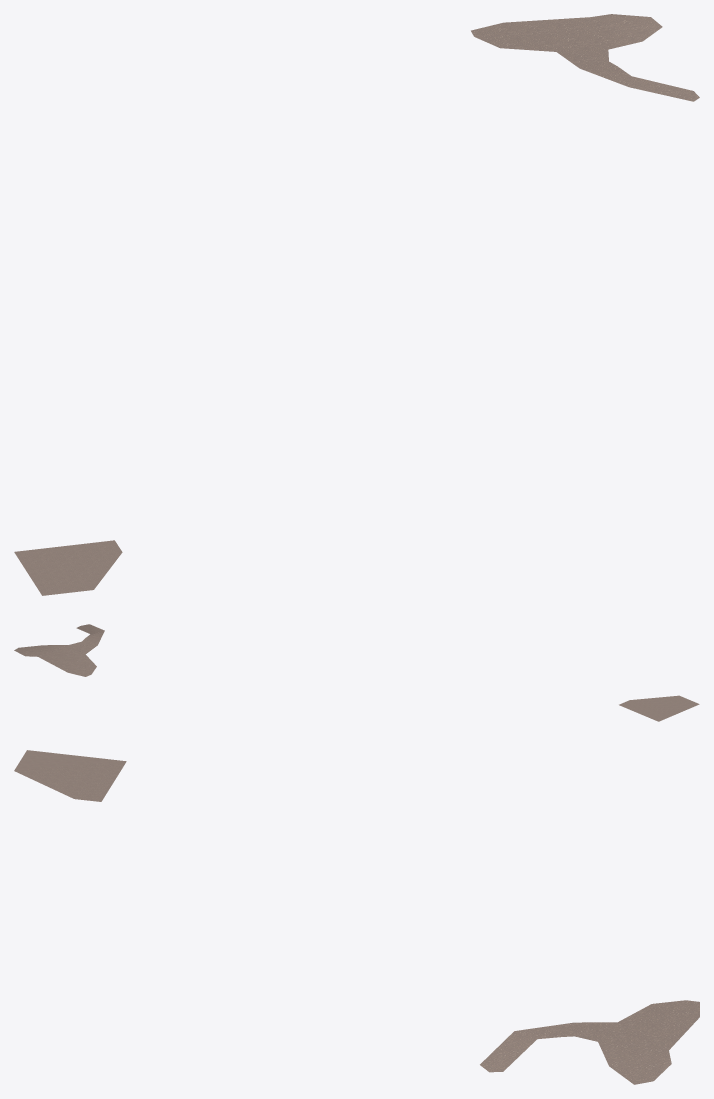
Rendered from kd_stage_1364a3_4_2.glb.
The picture shows the model from 3 angles, top to bottom: view 1: azimuth 30°, elevation 25°; view 2: azimuth 150°, elevation 25°; view 3: azimuth 270°, elevation 25°; orthographic projection. The views are drawn at different scales.
Visible parts, largest first — view 1: kd_stage_1364a3_4_2; view 2: kd_stage_1364a3_4_2; view 3: kd_stage_1364a3_4_2.
Boxes of the visible parts, x1,y1,x2,y2 form: kd_stage_1364a3_4_2: (14,14,699,595); kd_stage_1364a3_4_2: (14,624,699,721); kd_stage_1364a3_4_2: (14,750,699,1084).
Bounding box in the file's own units: 178 × 21.27 × 118.
Materials: 1 (1 with a texture image).
